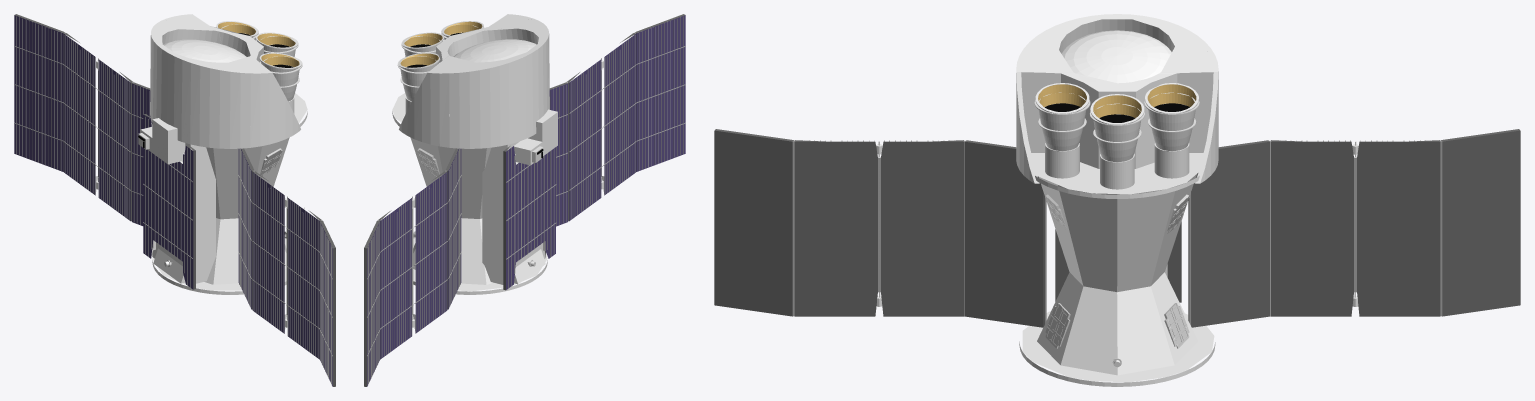
The model's file is SWAS.glb.
3 views of the same model, side by side, from view 1: azimuth 30°, elevation 25°; view 2: azimuth 150°, elevation 25°; view 3: azimuth 270°, elevation 25° (orthographic). The views are drawn at different scales.
Visible parts, largest first — view 1: <LWODefault>; view 2: <LWODefault>; view 3: <LWODefault>.
Part boxes in pixels (x1,y1,x2,y2): <LWODefault>: [14, 14, 335, 386]; <LWODefault>: [364, 14, 685, 386]; <LWODefault>: [714, 14, 1520, 386].
Size of the model in its own units: 21.82 by 32.63 by 82.26.
